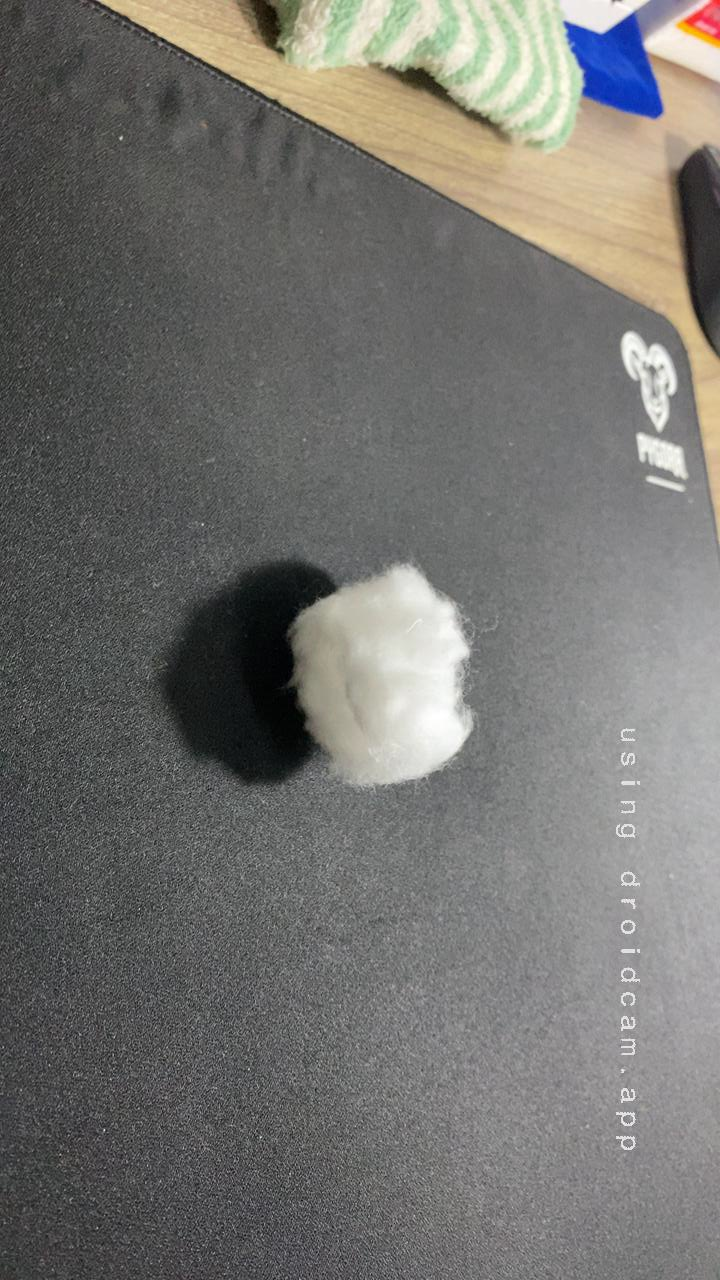cotton: (260, 534, 495, 798)
